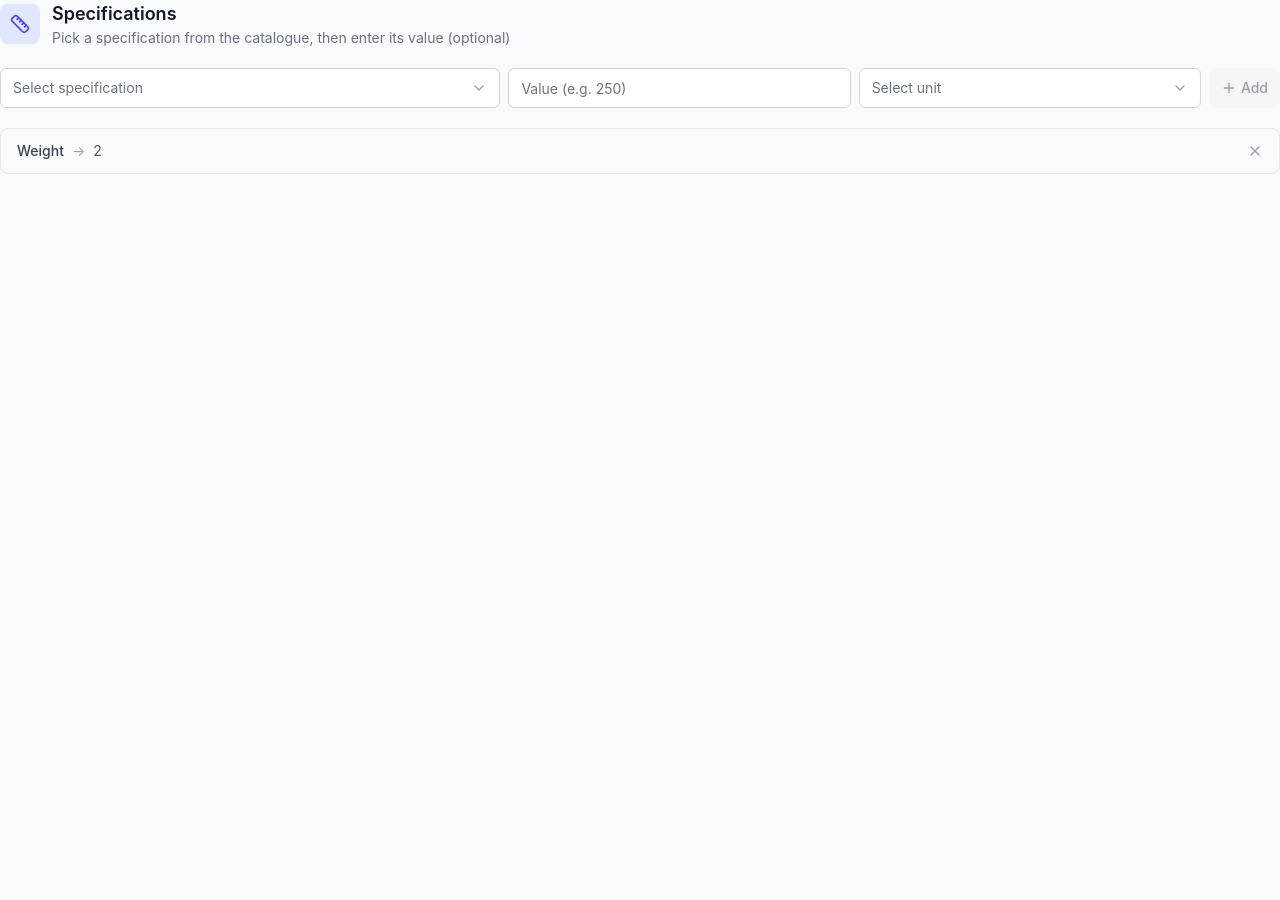
Test: SpecificationsStep › does not offer keys the product already uses
The width and height of the screenshot is (1280, 900).
Click the button "Select specification" at point(78, 88), box x1=0 y1=68 x2=500 y2=108
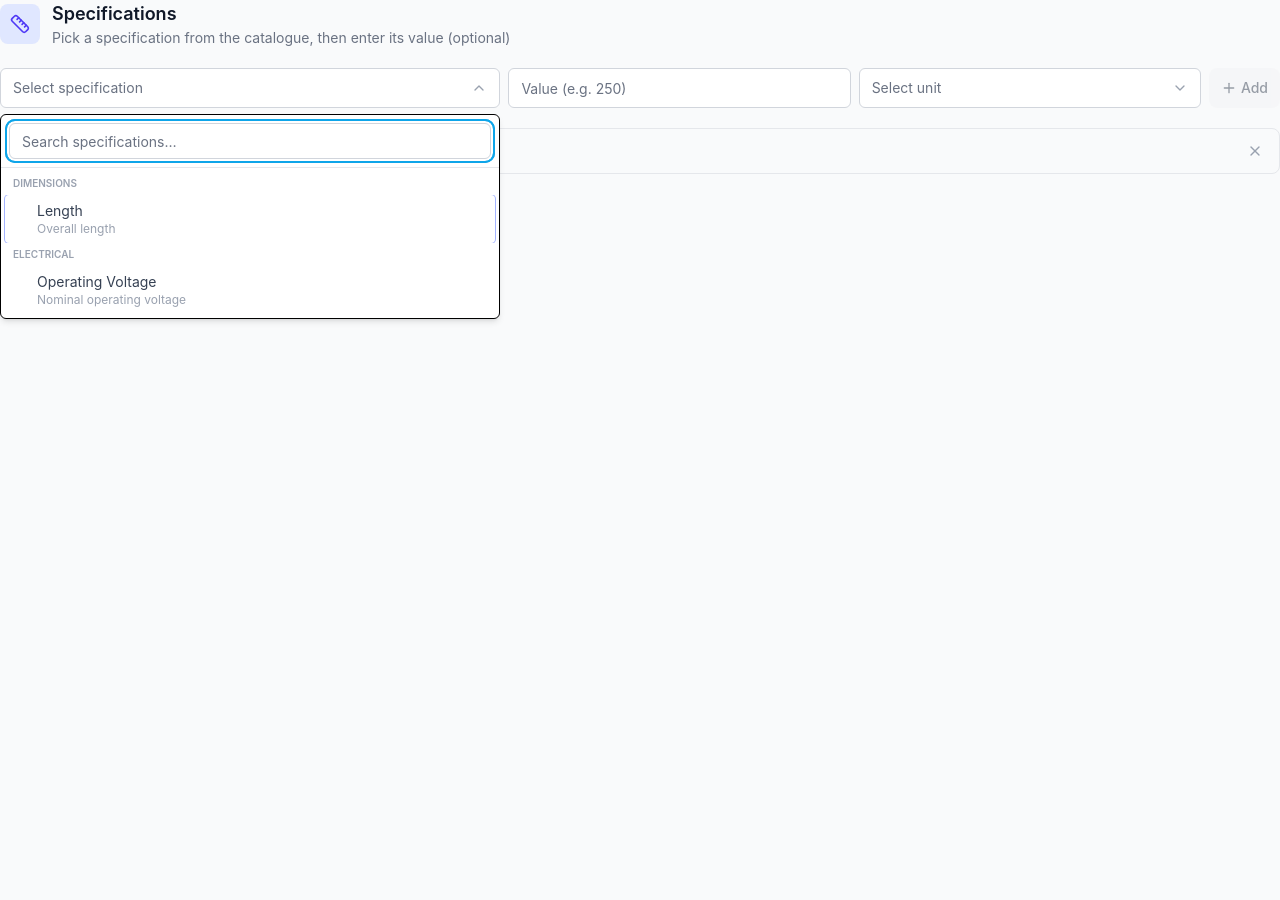
Now the option "Operating Voltage Nominal operating voltage" is shown, box x1=5 y1=266 x2=495 y2=314
